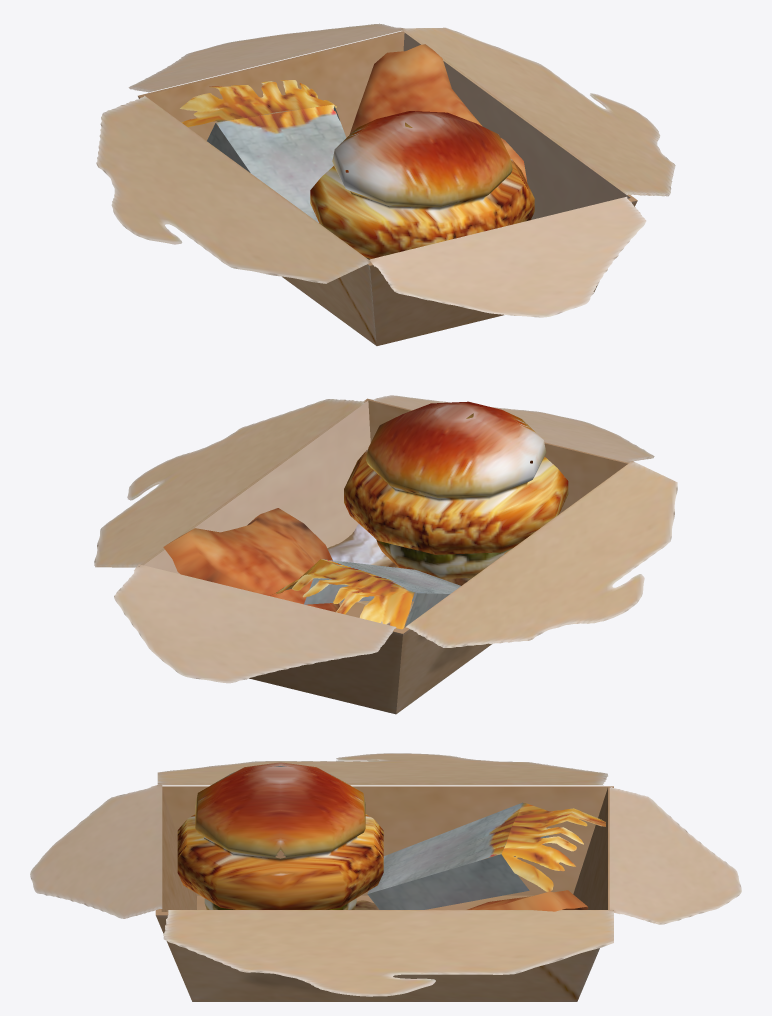
Rendered from combo_1.FBX.
3 views of the same model, one above another, from view 1: azimuth 30°, elevation 25°; view 2: azimuth 150°, elevation 25°; view 3: azimuth 270°, elevation 25° (orthographic).
Visible parts, largest first — view 1: takeaway_box, chicken_sandwich001, fries001, fried_chicken_breast001; view 2: takeaway_box, chicken_sandwich001, fried_chicken_breast001, fries001, greasy_napkin001; view 3: takeaway_box, chicken_sandwich001, fries001, fried_chicken_breast001.
Part boxes in pixels (left/top/right/bottom): takeaway_box: left=96, top=23, right=675, bottom=345; chicken_sandwich001: left=310, top=111, right=534, bottom=259; fries001: left=180, top=80, right=346, bottom=223; fried_chicken_breast001: left=349, top=44, right=527, bottom=182; takeaway_box: left=94, top=395, right=677, bottom=714; chicken_sandwich001: left=344, top=401, right=568, bottom=578; fried_chicken_breast001: left=163, top=508, right=339, bottom=612; fries001: left=270, top=559, right=460, bottom=629; greasy_napkin001: left=327, top=524, right=472, bottom=627; takeaway_box: left=30, top=753, right=741, bottom=1001; chicken_sandwich001: left=177, top=762, right=383, bottom=909; fries001: left=367, top=802, right=605, bottom=909; fried_chicken_breast001: left=467, top=890, right=588, bottom=911.
Bounding box in the file's own units: 38.24 × 12.09 × 48.71.
